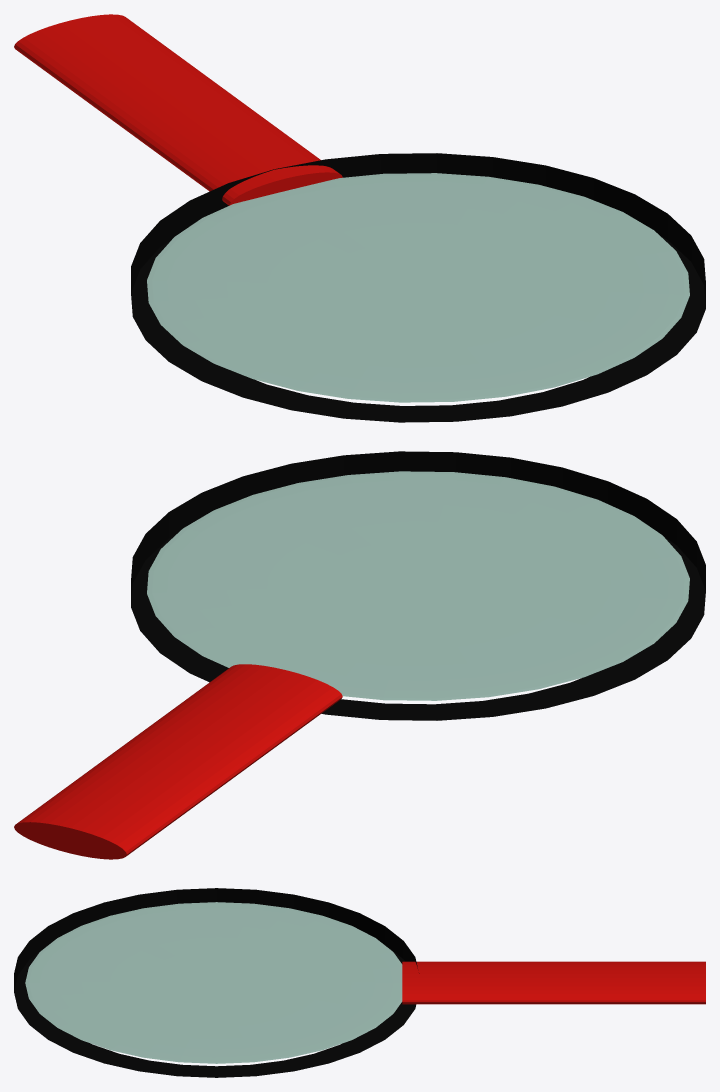
The model's file is Lupa.obj.
3 renders of one model, top to bottom at view 1: azimuth 30°, elevation 25°; view 2: azimuth 150°, elevation 25°; view 3: azimuth 270°, elevation 25°, orthographic. The views are drawn at different scales.
Parts seen in each view (by area): view 1: Sphere; view 2: Sphere; view 3: Sphere.
Part boxes in pixels (x1=…): Sphere: x1=14, y1=14, x2=705, y2=422; Sphere: x1=14, y1=451, x2=705, y2=859; Sphere: x1=14, y1=888, x2=705, y2=1077.
Bounding box in the file's own units: 0.1398 × 0.00706 × 0.2387.
